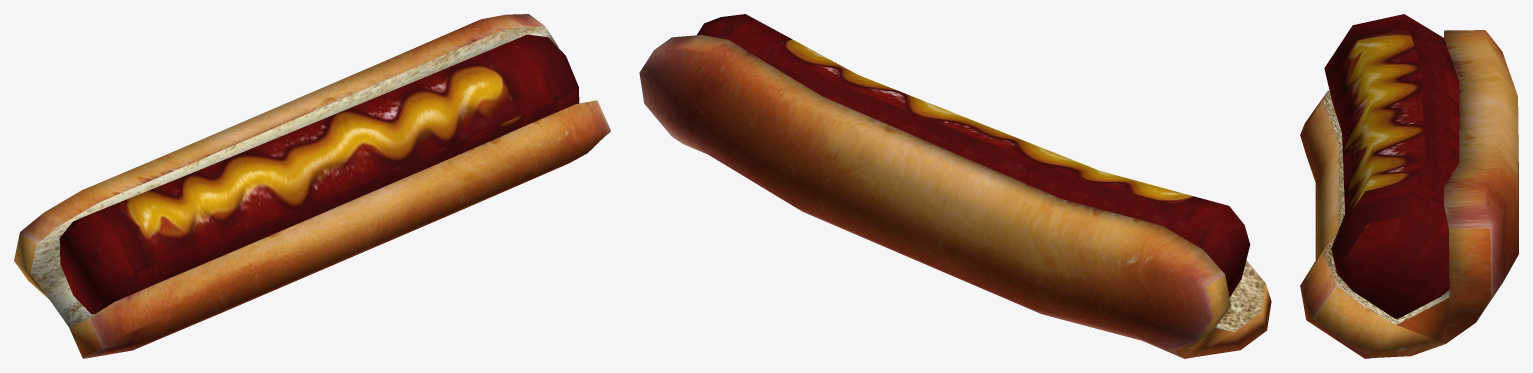
Rendered from hotdog.glb.
3 renders of one model, left to right at view 1: azimuth 30°, elevation 25°; view 2: azimuth 150°, elevation 25°; view 3: azimuth 270°, elevation 25°, orthographic. The views are drawn at different scales.
Visible parts, largest first — view 1: Cube; view 2: Cube; view 3: Cube.
Boxes of the visible parts, x1,y1,x2,y2 form: Cube: (14, 14, 610, 358); Cube: (639, 14, 1271, 358); Cube: (1300, 14, 1518, 358).
Bounding box in the file's own units: 6.15 × 2.21 × 1.74.
Materials: 3 (3 with a texture image).
